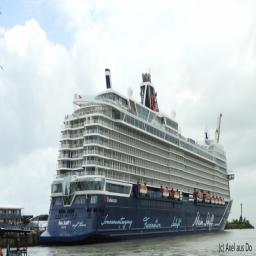cruises: (46, 66, 237, 247)
